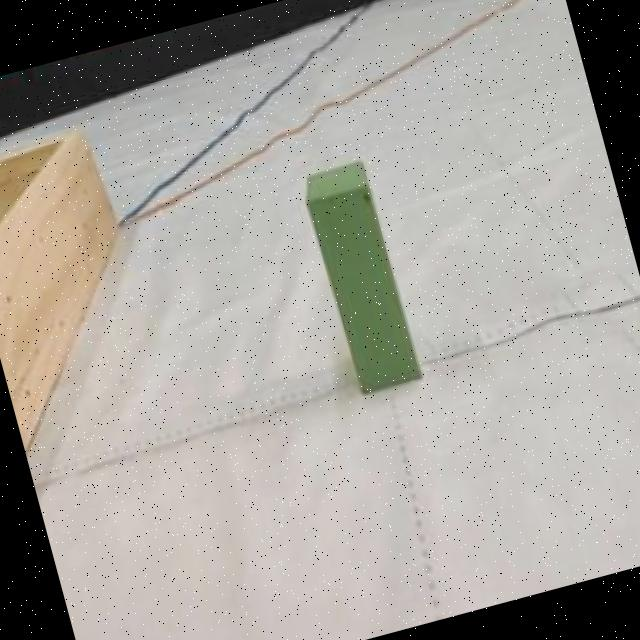greenbox: (296, 150, 428, 399)
